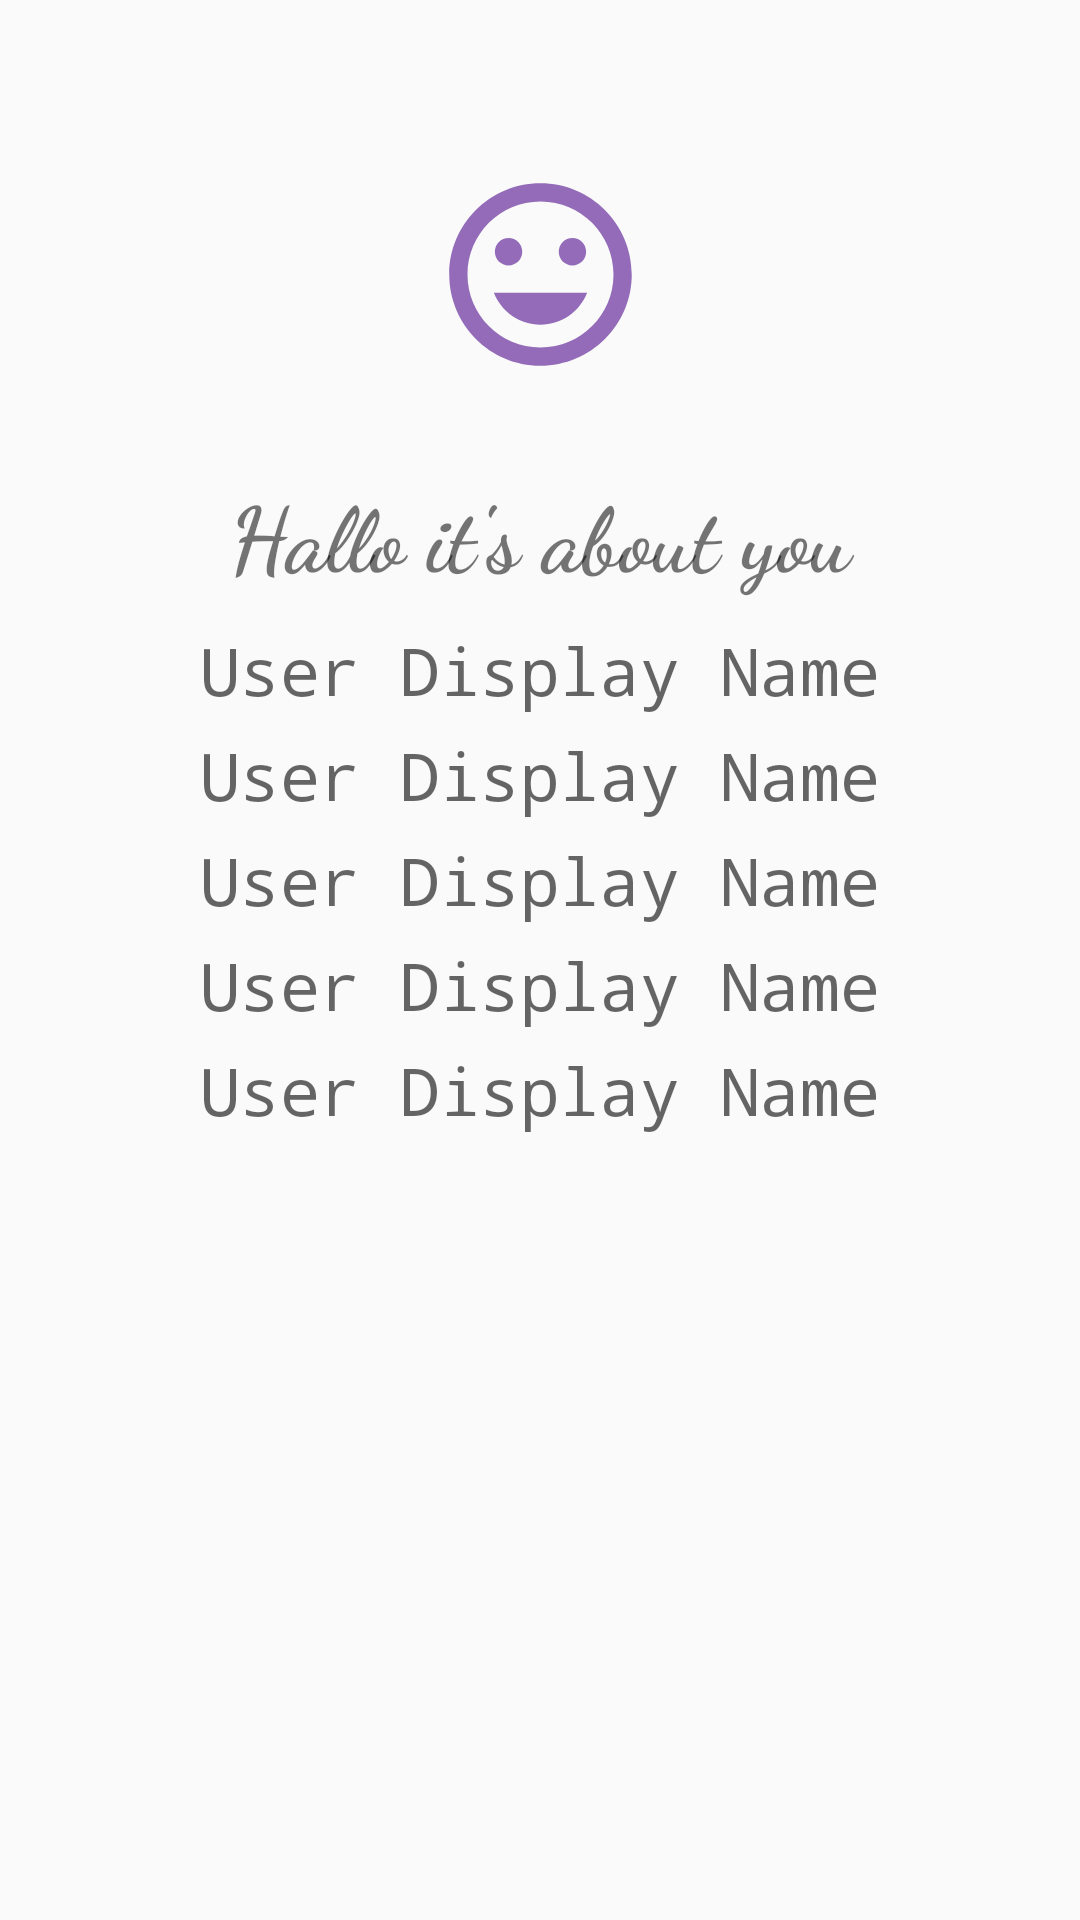

Locate icon controls on the screen. Image size 1080px x 1920px, boxes as detection(x1, y1, x2, y2).
tag faces: detection(449, 183, 632, 366)
